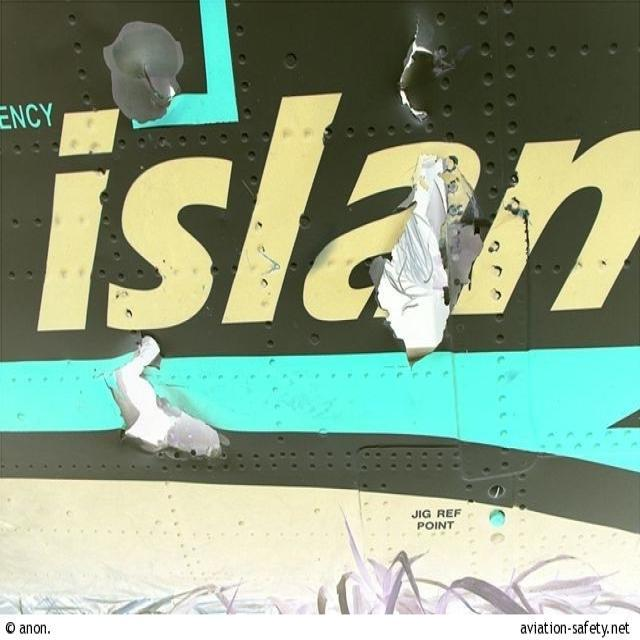crack: (370, 148, 458, 368), (110, 333, 230, 461), (396, 12, 446, 130), (136, 59, 179, 113)
